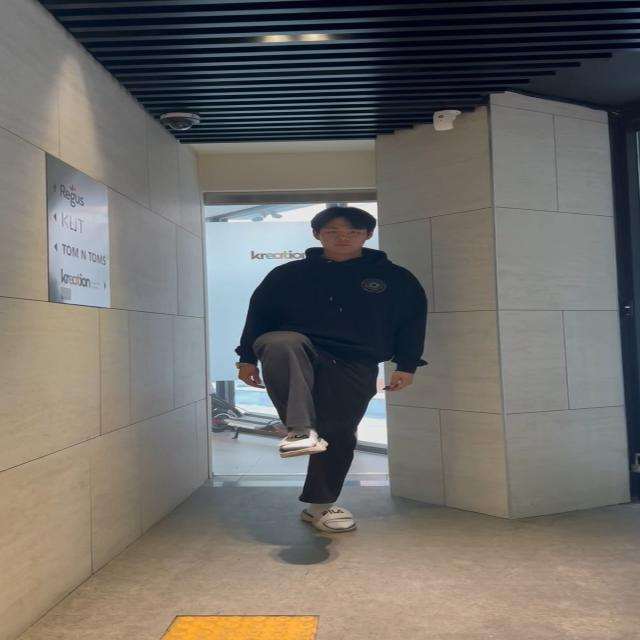knee: (236, 324, 341, 459)
